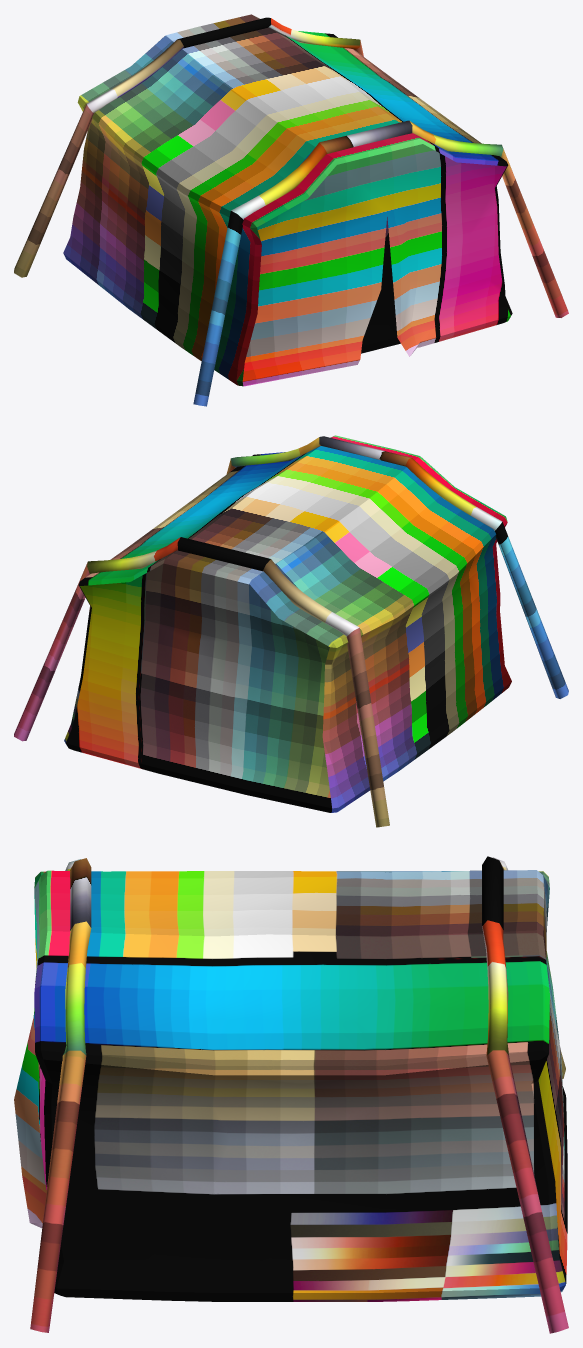
The model's file is Tent.FBX.
3 views of the same model, one above another, from view 1: azimuth 30°, elevation 25°; view 2: azimuth 150°, elevation 25°; view 3: azimuth 270°, elevation 25° (orthographic). The views are drawn at different scales.
Parts seen in each view (by area): view 1: Tent; view 2: Tent; view 3: Tent.
Part boxes in pixels (left/top/right/bottom): Tent: left=14, top=14, right=568, bottom=406; Tent: left=14, top=435, right=568, bottom=827; Tent: left=14, top=856, right=568, bottom=1333.
Size of the model in its own units: 270 by 152 by 238.
Materials: 1 (1 with a texture image).
